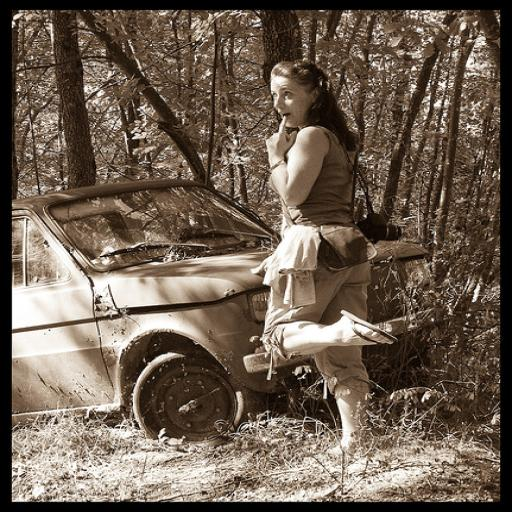car: (9, 178, 436, 447)
person: (259, 60, 399, 454)
